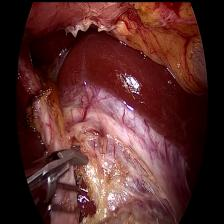Clipper: (18, 134, 93, 215)
